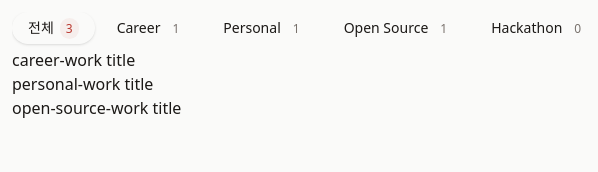
Test case: WorkFilter › shows only works matching the selected filter
Click the tab named "Personal 1".
click(264, 28)  # box [207,12,322,44]
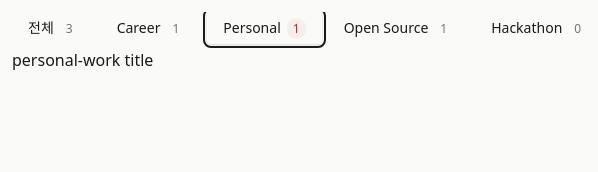
Check: the number of list items is 1, box [12,49,153,71]
Check: the list item "career-work title" is gone
